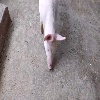heo: (36, 16, 67, 74)
